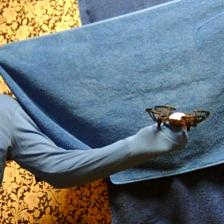drone: (146, 104, 210, 131)
